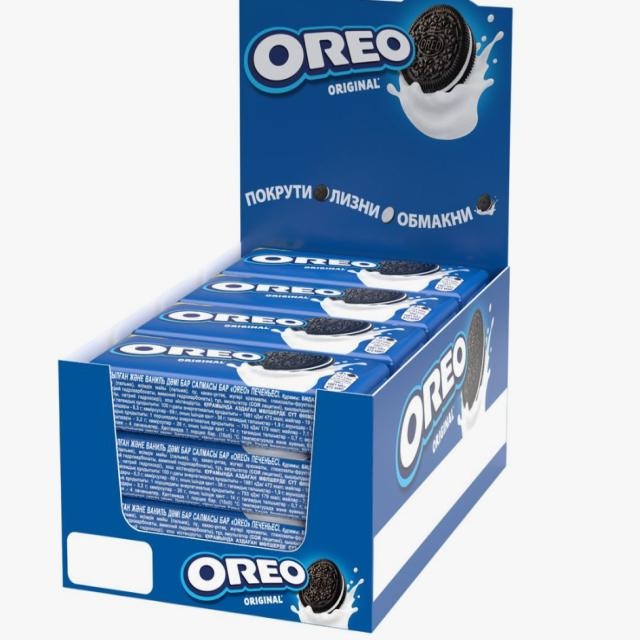supermarket-product: (128, 175, 523, 447)
